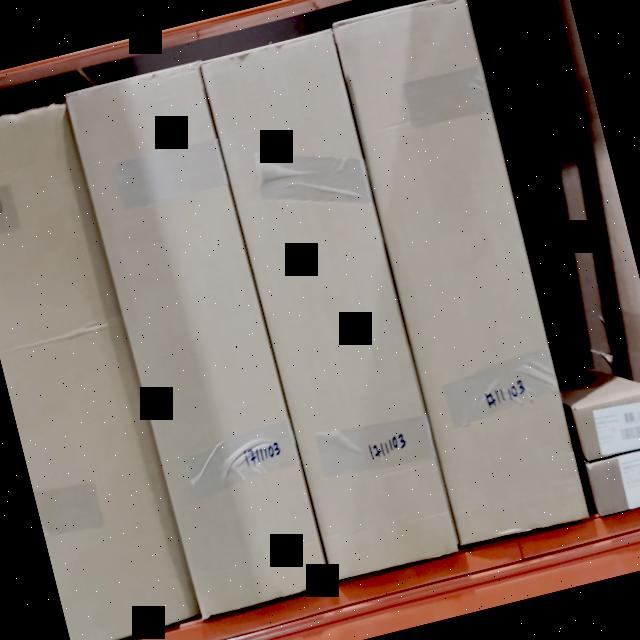box: (68, 61, 328, 615), (202, 31, 458, 578), (334, 0, 591, 541), (572, 385, 640, 461), (590, 444, 640, 516)
